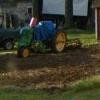Tractor: (12, 13, 73, 61)
